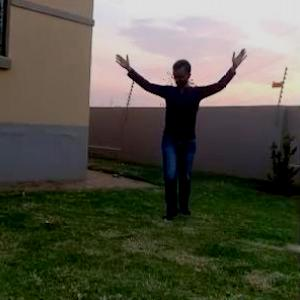takeoff: (113, 42, 256, 209)
